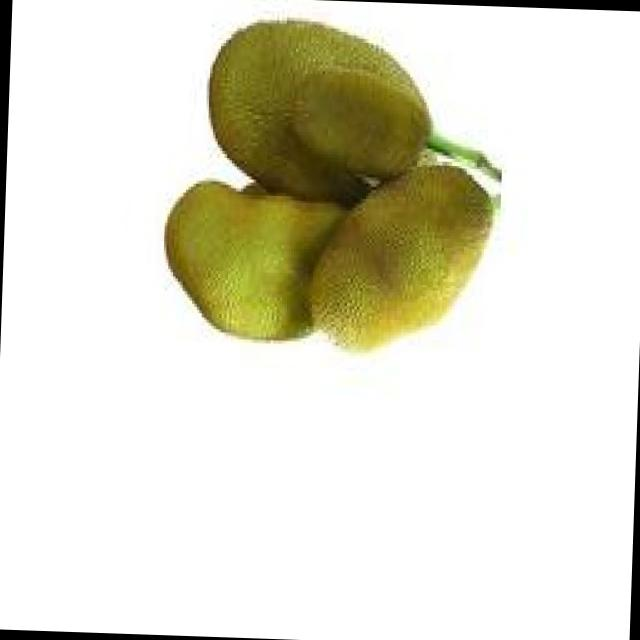Fruit: (156, 117, 509, 376), (187, 0, 449, 222)
